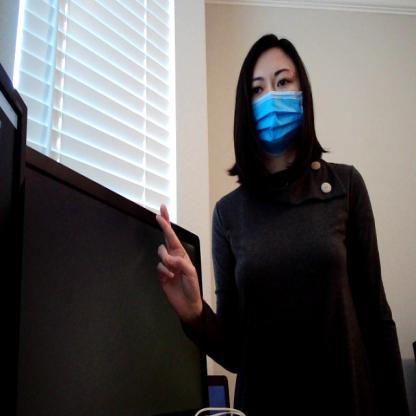right: (153, 197, 202, 311)
